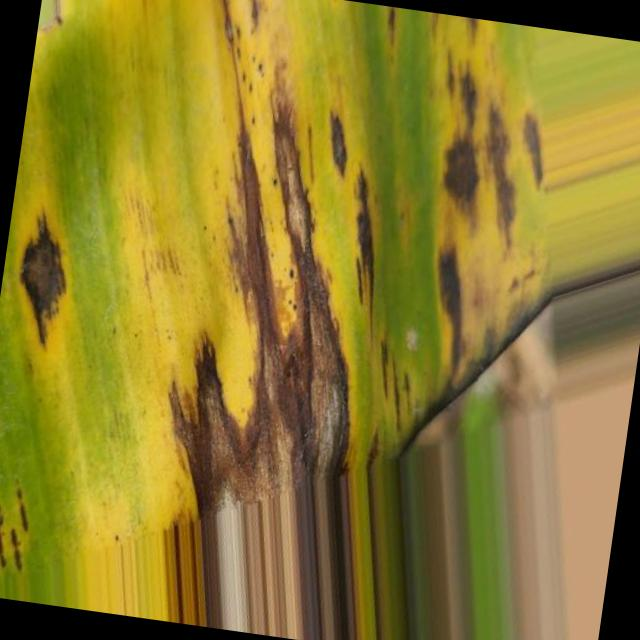Banana_Yellow_Sigatoka: (140, 10, 418, 541), (395, 61, 614, 398)
